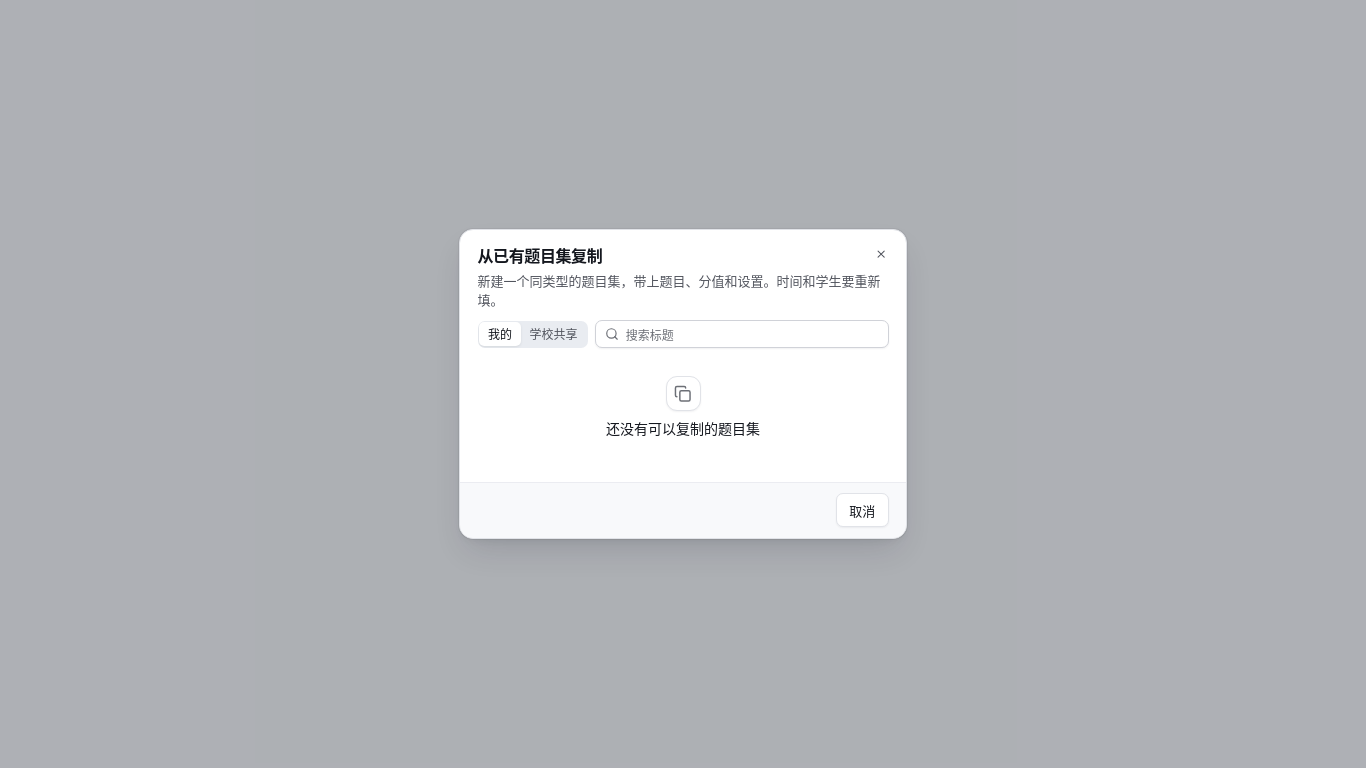
copy dialog › shows an empty state for mine and for school sharing
The image size is (1366, 768).
Expected: the text "还没有老师共享题目集" is not shown
Click the tab "学校共享" at (554, 334), box [521,322,586,346]
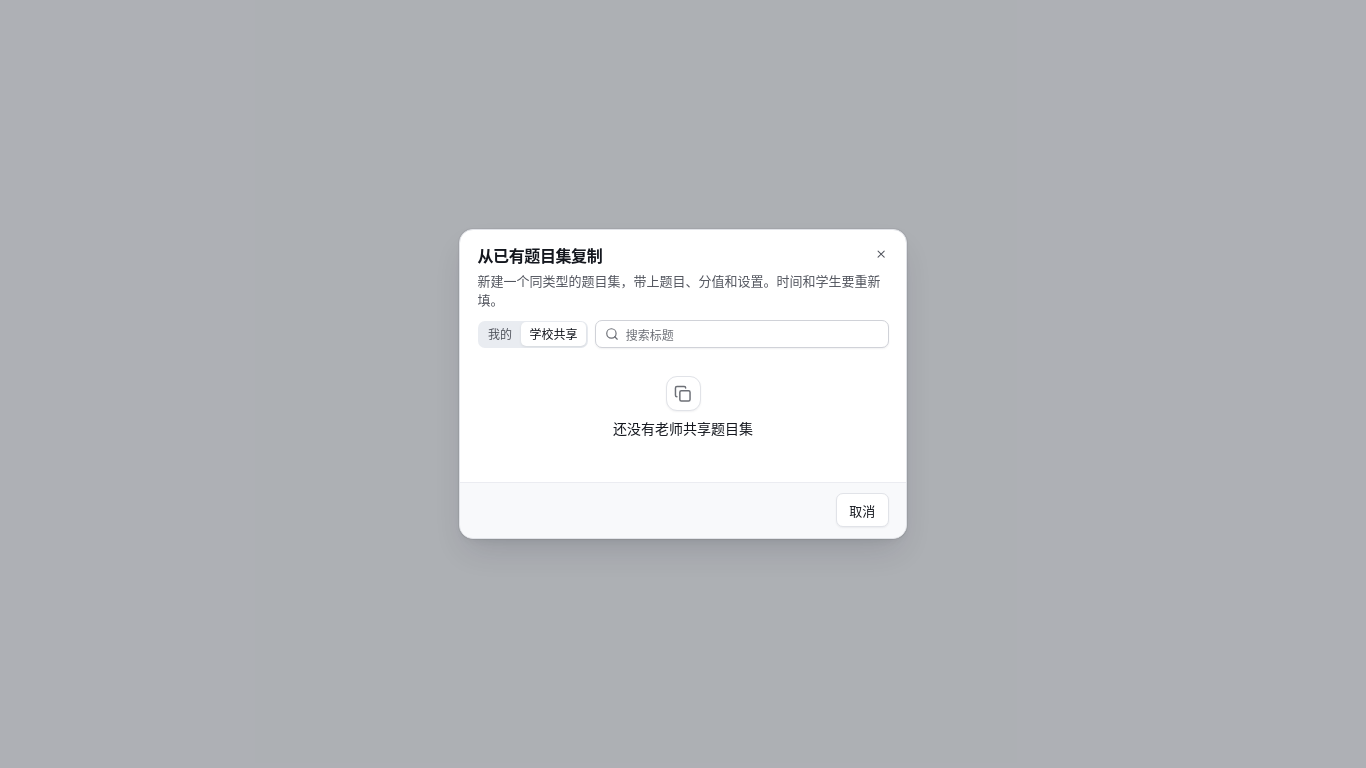
Expected: the text "还没有可以复制的题目集" is gone
